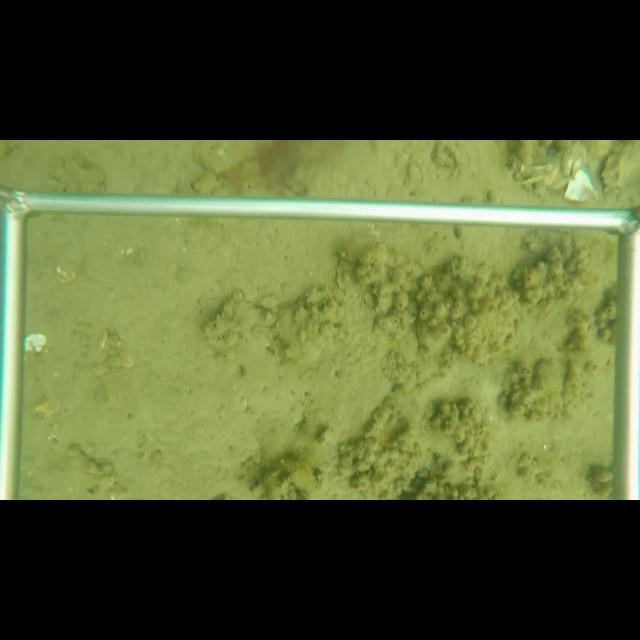Oyster-Closed: (200, 286, 282, 390), (333, 228, 384, 265)
